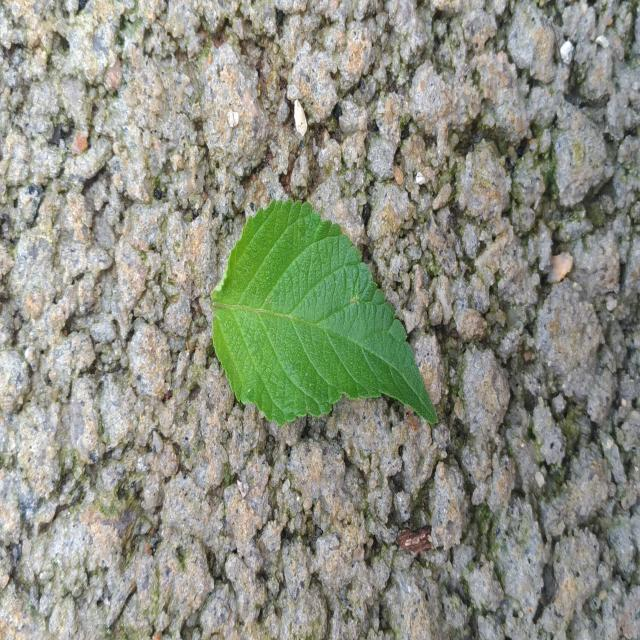Lantana: (211, 200, 436, 424)
